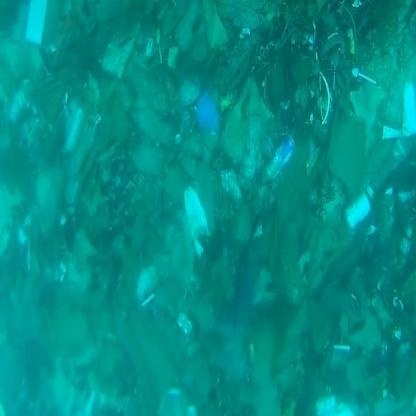can: (255, 128, 307, 183), (349, 180, 373, 245)
